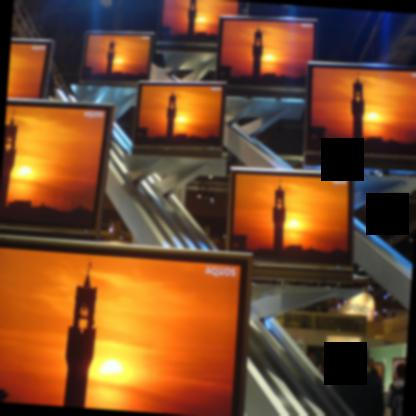backpack: (390, 389, 404, 416)
